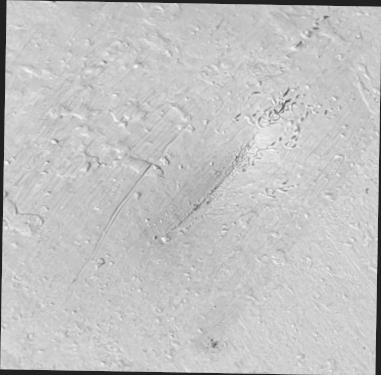dent: (0, 1, 381, 375)
